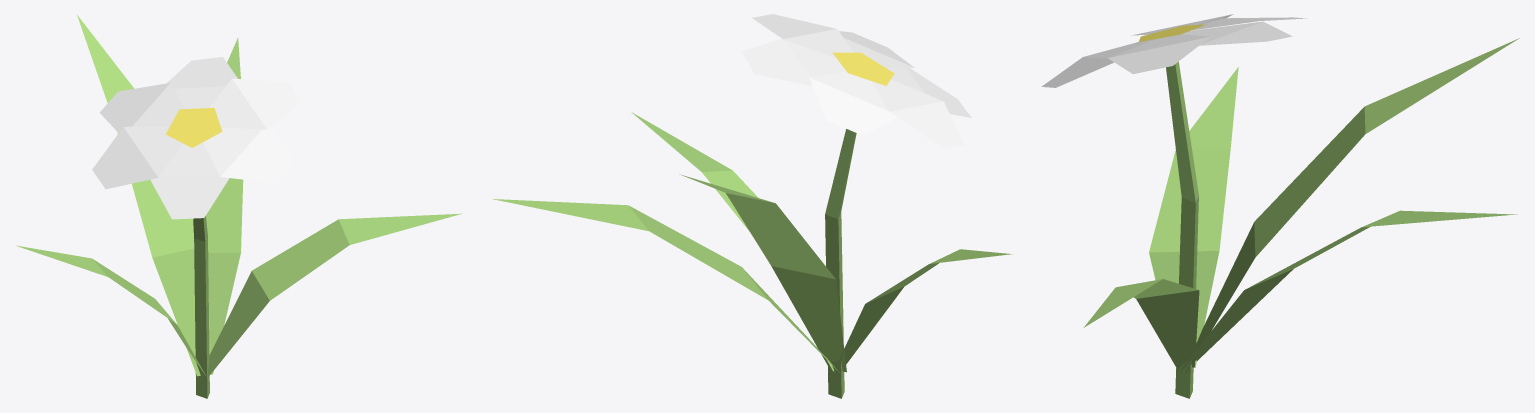
The model's file is Flower_e_OneS_09.fbx.
3 views of the same model, side by side, from view 1: azimuth 30°, elevation 25°; view 2: azimuth 150°, elevation 25°; view 3: azimuth 270°, elevation 25° (orthographic). The views are drawn at different scales.
Visible parts, largest first — view 1: Flower_e_OneS_09; view 2: Flower_e_OneS_09; view 3: Flower_e_OneS_09.
Boxes of the visible parts, bbox=[...] form: Flower_e_OneS_09: bbox=[16, 15, 461, 398]; Flower_e_OneS_09: bbox=[492, 14, 1012, 398]; Flower_e_OneS_09: bbox=[1041, 14, 1519, 398].
Bounding box in the file's own units: 0.4188 × 0.3136 × 0.3548.
